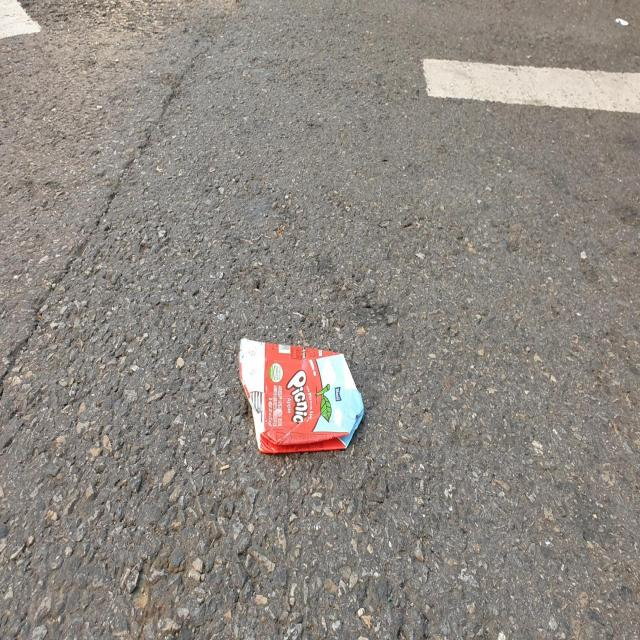paperpack: (239, 338, 365, 453)
